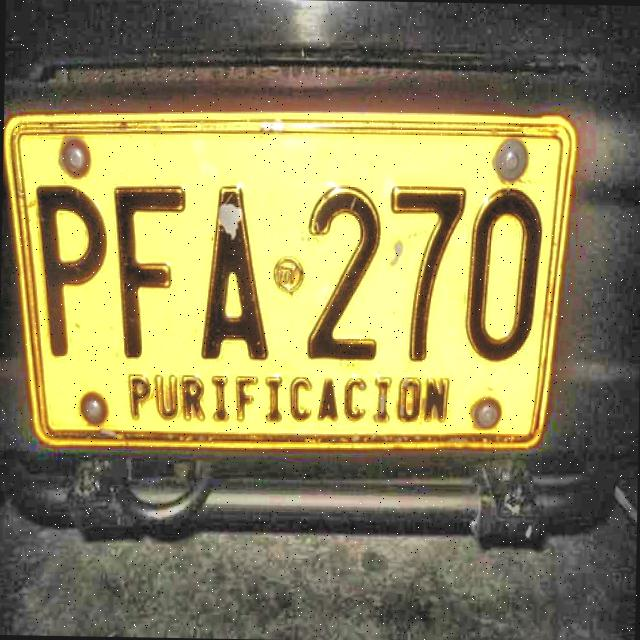plate: (10, 124, 567, 442)
